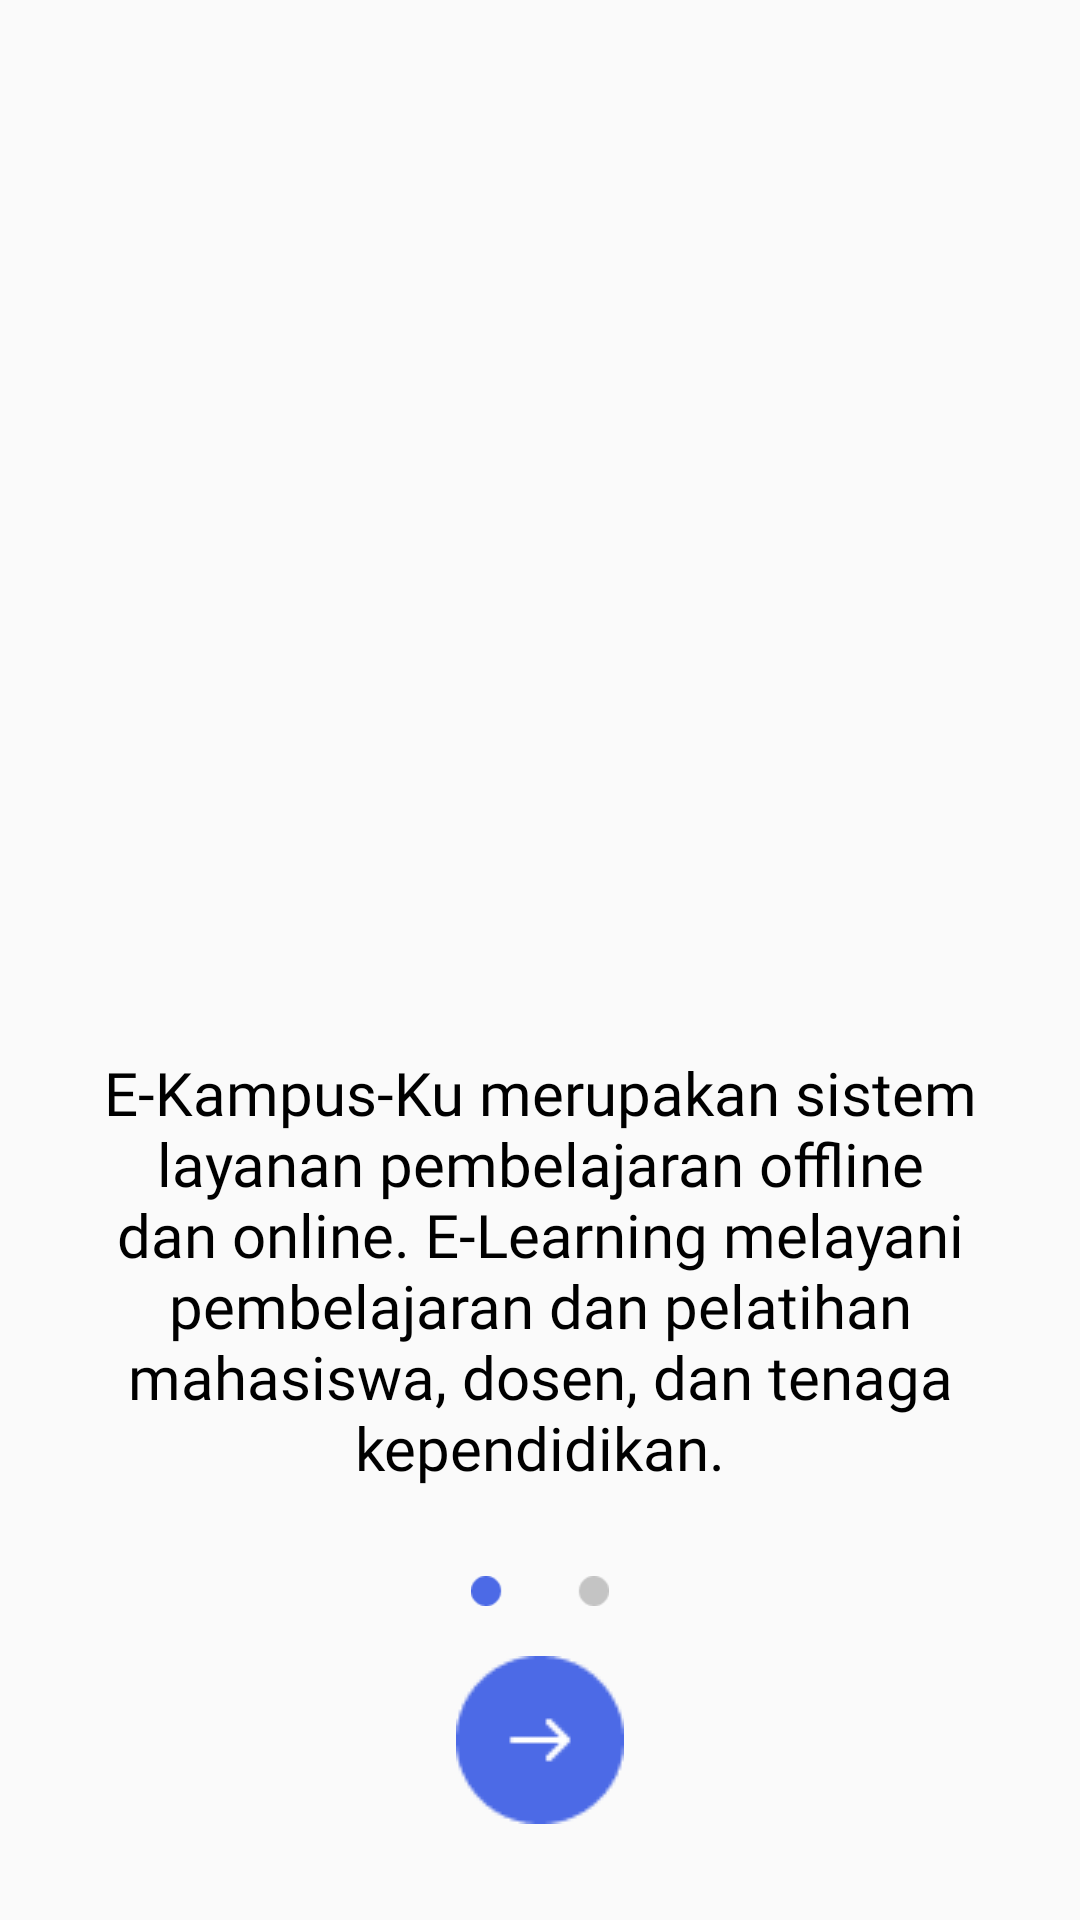

Where icons sit on this 1080*1920 app screen, as (x1, y1, x2, y2):
arrowonboard: (456, 1656, 624, 1824)
